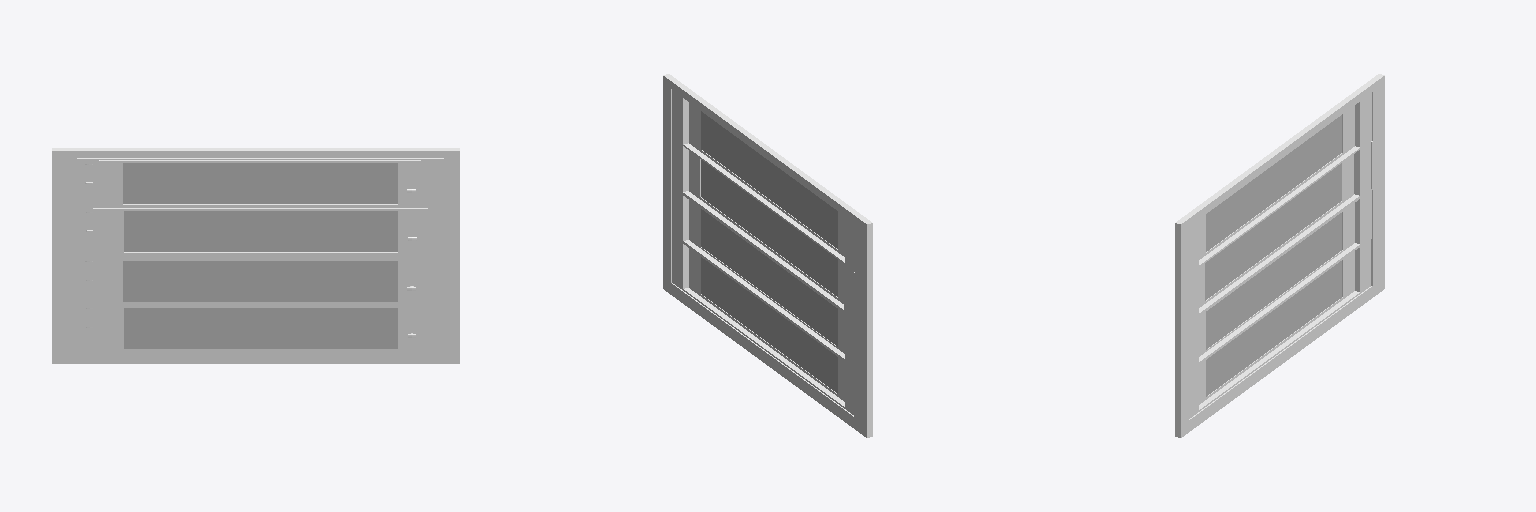
File: fenetre.obj
The picture shows the model from 3 angles: view 1: azimuth 30°, elevation 25°; view 2: azimuth 150°, elevation 25°; view 3: azimuth 270°, elevation 25°; orthographic projection.
Visible parts, largest first — view 1: wall_1_32, sweethome3d_window_pane_on_hinge_1_7, sweethome3d_window_pane_on_hinge_1_21, sweethome3d_window_pane_on_hinge_1_14, sweethome3d_window_pane_on_hinge_1_28, sweethome3d_opening_on_hinge_1_27, sweethome3d_opening_on_hinge_1_13, sweethome3d_opening_on_hinge_1_20, sweethome3d_opening_on_hinge_1_6, frame_1, frame_8, frame_15 (+2 smaller); view 2: wall_1_31, sweethome3d_window_pane_on_hinge_1_21, sweethome3d_window_pane_on_hinge_1_7, sweethome3d_window_pane_on_hinge_1_14, sweethome3d_window_pane_on_hinge_1_28, frame_22, frame_8, frame_15, frame_1, sweethome3d_opening_on_hinge_1_6, sweethome3d_opening_on_hinge_1_27, sweethome3d_opening_on_hinge_1_13 (+4 smaller); view 3: wall_1_31, sweethome3d_window_pane_on_hinge_1_14, sweethome3d_window_pane_on_hinge_1_21, sweethome3d_window_pane_on_hinge_1_7, sweethome3d_window_pane_on_hinge_1_28, frame_22, frame_8, frame_15, frame_1, sweethome3d_opening_on_hinge_1_6, sweethome3d_opening_on_hinge_1_27, sweethome3d_opening_on_hinge_1_13 (+4 smaller).
Part boxes in pixels (x1,y1,x2,y2): wall_1_32: (52, 151, 459, 363); sweethome3d_window_pane_on_hinge_1_7: (123, 163, 397, 203); sweethome3d_window_pane_on_hinge_1_21: (123, 261, 397, 301); sweethome3d_window_pane_on_hinge_1_14: (124, 211, 397, 251); sweethome3d_window_pane_on_hinge_1_28: (124, 308, 397, 348); sweethome3d_opening_on_hinge_1_27: (93, 305, 427, 351); sweethome3d_opening_on_hinge_1_13: (93, 208, 427, 254); sweethome3d_opening_on_hinge_1_20: (93, 258, 427, 304); sweethome3d_opening_on_hinge_1_6: (93, 160, 427, 206); frame_1: (77, 158, 443, 208); frame_8: (77, 209, 443, 256); frame_15: (77, 257, 443, 305); wall_1_31: (663, 76, 869, 437); sweethome3d_window_pane_on_hinge_1_21: (701, 209, 837, 346); sweethome3d_window_pane_on_hinge_1_7: (701, 111, 837, 248); sweethome3d_window_pane_on_hinge_1_14: (701, 160, 837, 296); sweethome3d_window_pane_on_hinge_1_28: (701, 257, 837, 393); frame_22: (672, 233, 854, 414); frame_8: (672, 137, 853, 318); frame_15: (672, 186, 854, 365); frame_1: (672, 90, 854, 271); sweethome3d_opening_on_hinge_1_6: (689, 103, 844, 256); sweethome3d_opening_on_hinge_1_27: (689, 248, 844, 401); sweethome3d_opening_on_hinge_1_13: (689, 151, 843, 303); wall_1_31: (1178, 76, 1384, 437); sweethome3d_window_pane_on_hinge_1_14: (1205, 163, 1341, 300); sweethome3d_window_pane_on_hinge_1_21: (1206, 213, 1341, 349); sweethome3d_window_pane_on_hinge_1_7: (1206, 115, 1341, 251); sweethome3d_window_pane_on_hinge_1_28: (1206, 261, 1341, 396); frame_22: (1189, 237, 1370, 418); frame_8: (1189, 140, 1370, 321); frame_15: (1189, 189, 1371, 371); frame_1: (1189, 93, 1371, 272); sweethome3d_opening_on_hinge_1_6: (1199, 106, 1354, 259); sweethome3d_opening_on_hinge_1_27: (1199, 251, 1354, 404); sweethome3d_opening_on_hinge_1_13: (1199, 154, 1353, 307).
Size of the model in its own units: 378 by 250 by 222.